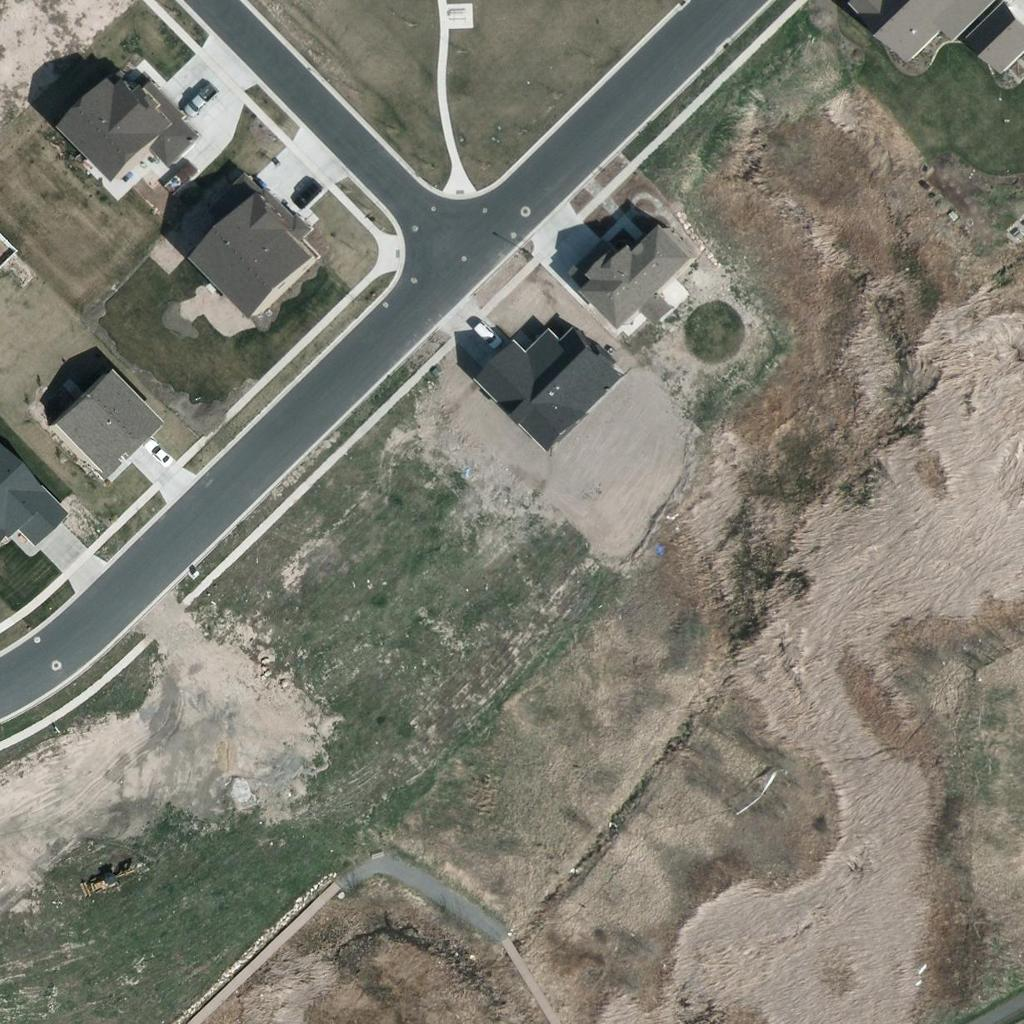car: (178, 84, 212, 118), (166, 156, 200, 190), (292, 176, 326, 210), (467, 316, 501, 350), (142, 434, 176, 468)
